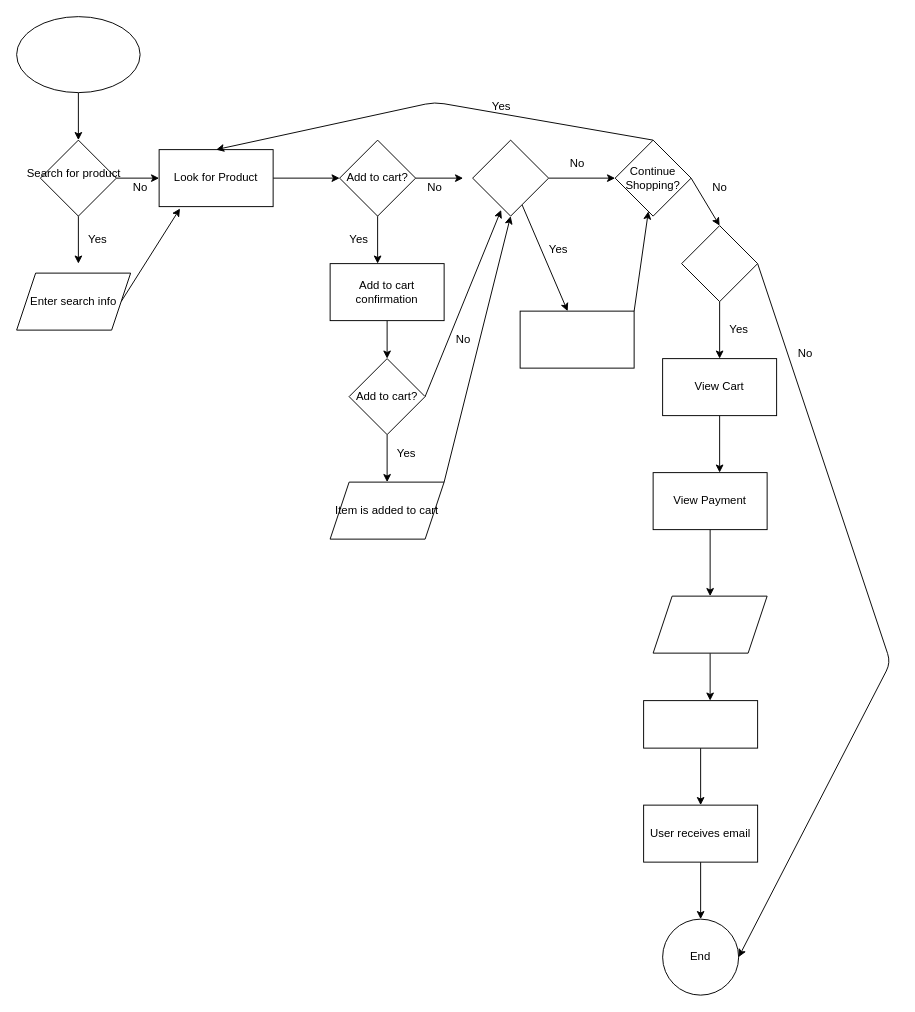
The diagram is 915 pixels wide and 1012 high, and some of its shapes have lost their labels. Each missing label, with the box of its shape:
Checkout?: (681, 225, 758, 302)
Input Payment information: (652, 595, 767, 653)
Open product webpage: (519, 310, 634, 368)
Order Confirmation: (643, 700, 758, 748)
User enters Website: (16, 16, 140, 93)
View specific product: (472, 139, 549, 216)
